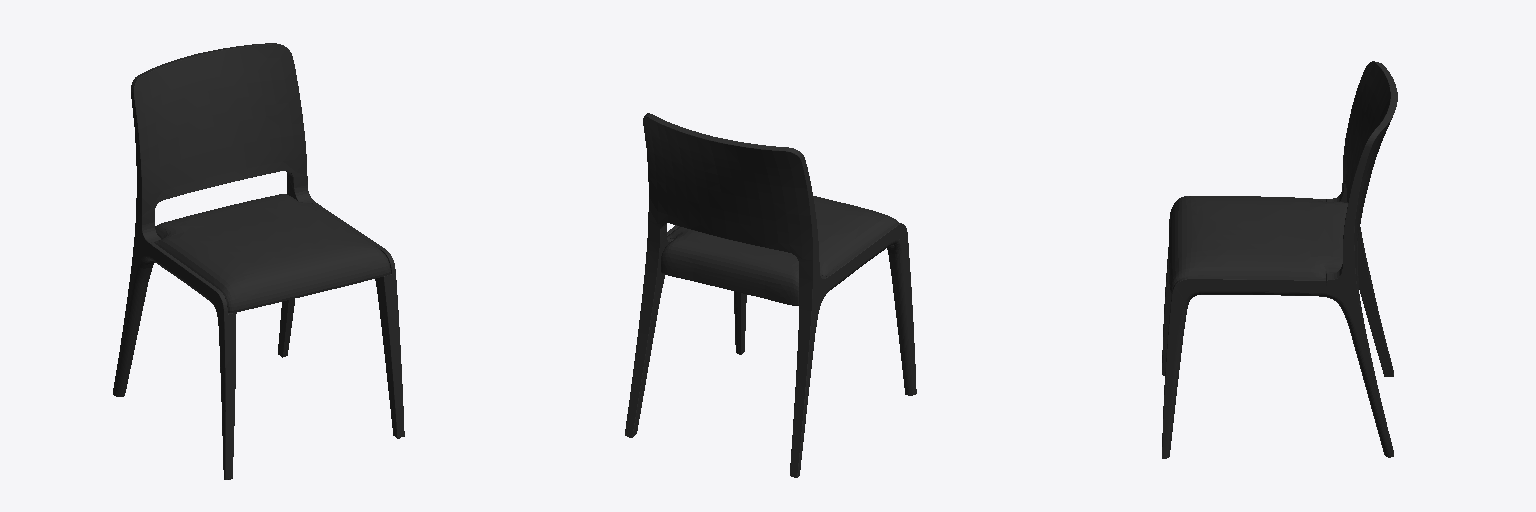
Rendered from Chaise.obj.
3 renders of one model, left to right at view 1: azimuth 30°, elevation 25°; view 2: azimuth 150°, elevation 25°; view 3: azimuth 270°, elevation 25°, orthographic.
Parts seen in each view (by area): view 1: Chaise; view 2: Chaise; view 3: Chaise.
Boxes of the visible parts, <box> form: Chaise: <box>113,43,404,479</box>; Chaise: <box>625,113,916,477</box>; Chaise: <box>1162,61,1397,458</box>.
Size of the model in its own units: 42.36 by 72.37 by 48.3.